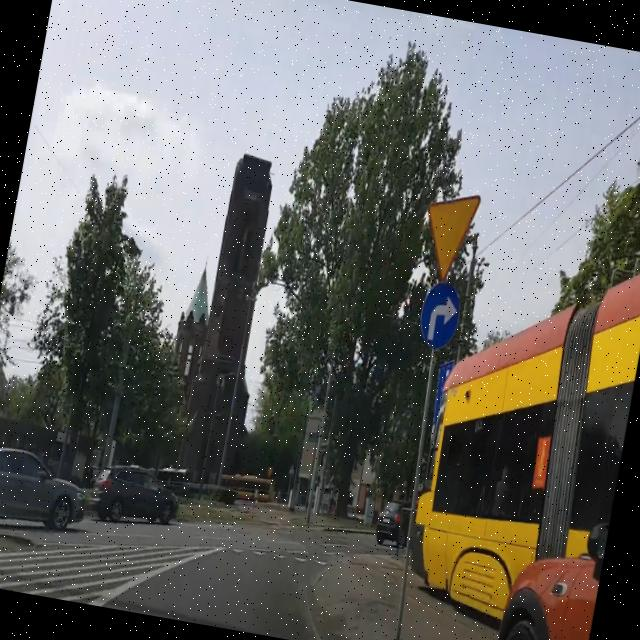Ustap pierwszenstwa: (416, 192, 480, 282)
